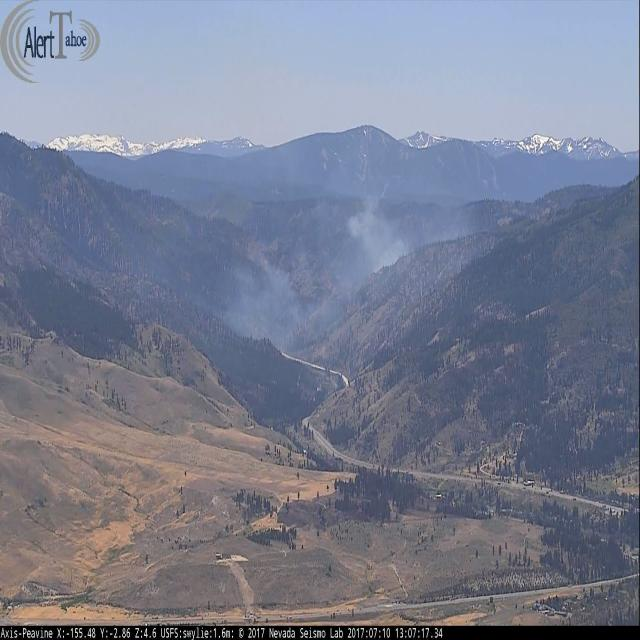smoke: (227, 258, 312, 357), (347, 194, 416, 271)
